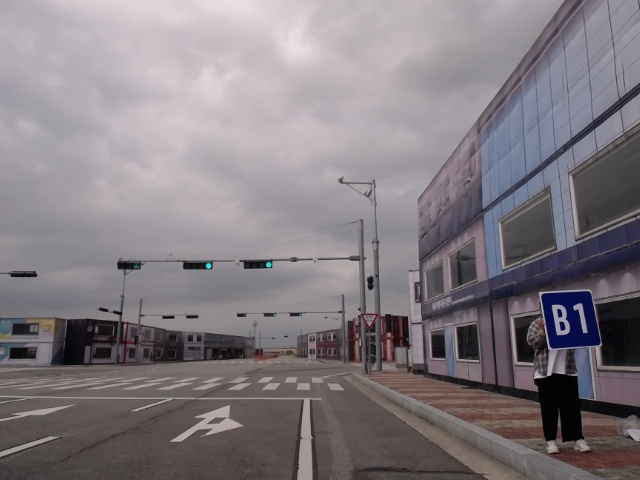delivery_b1: (539, 290, 602, 349)
straight_green_4: (183, 261, 213, 270), (244, 260, 273, 269), (264, 313, 276, 317), (290, 312, 302, 316)
